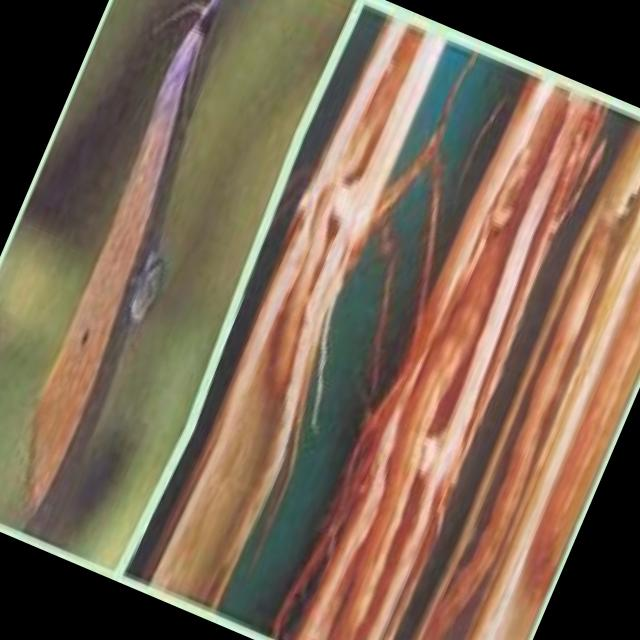stem-borer: (0, 0, 274, 531)
